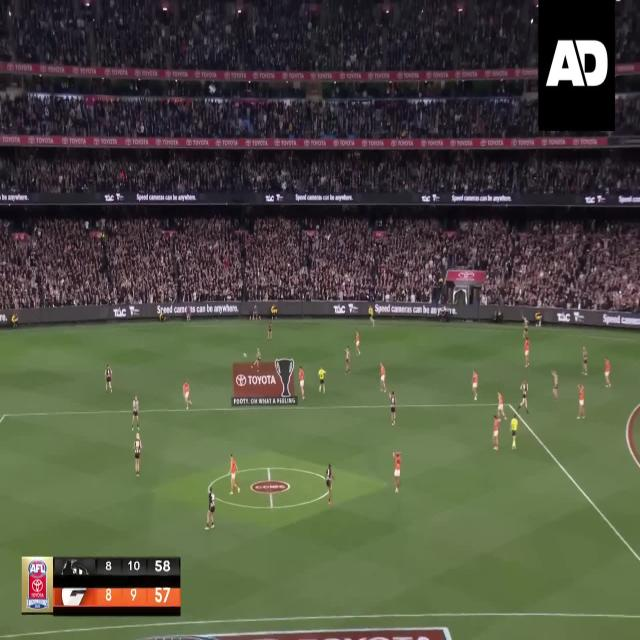crowd: (2, 208, 640, 311), (3, 1, 540, 71), (1, 77, 538, 140), (2, 143, 640, 195), (615, 0, 640, 68)
